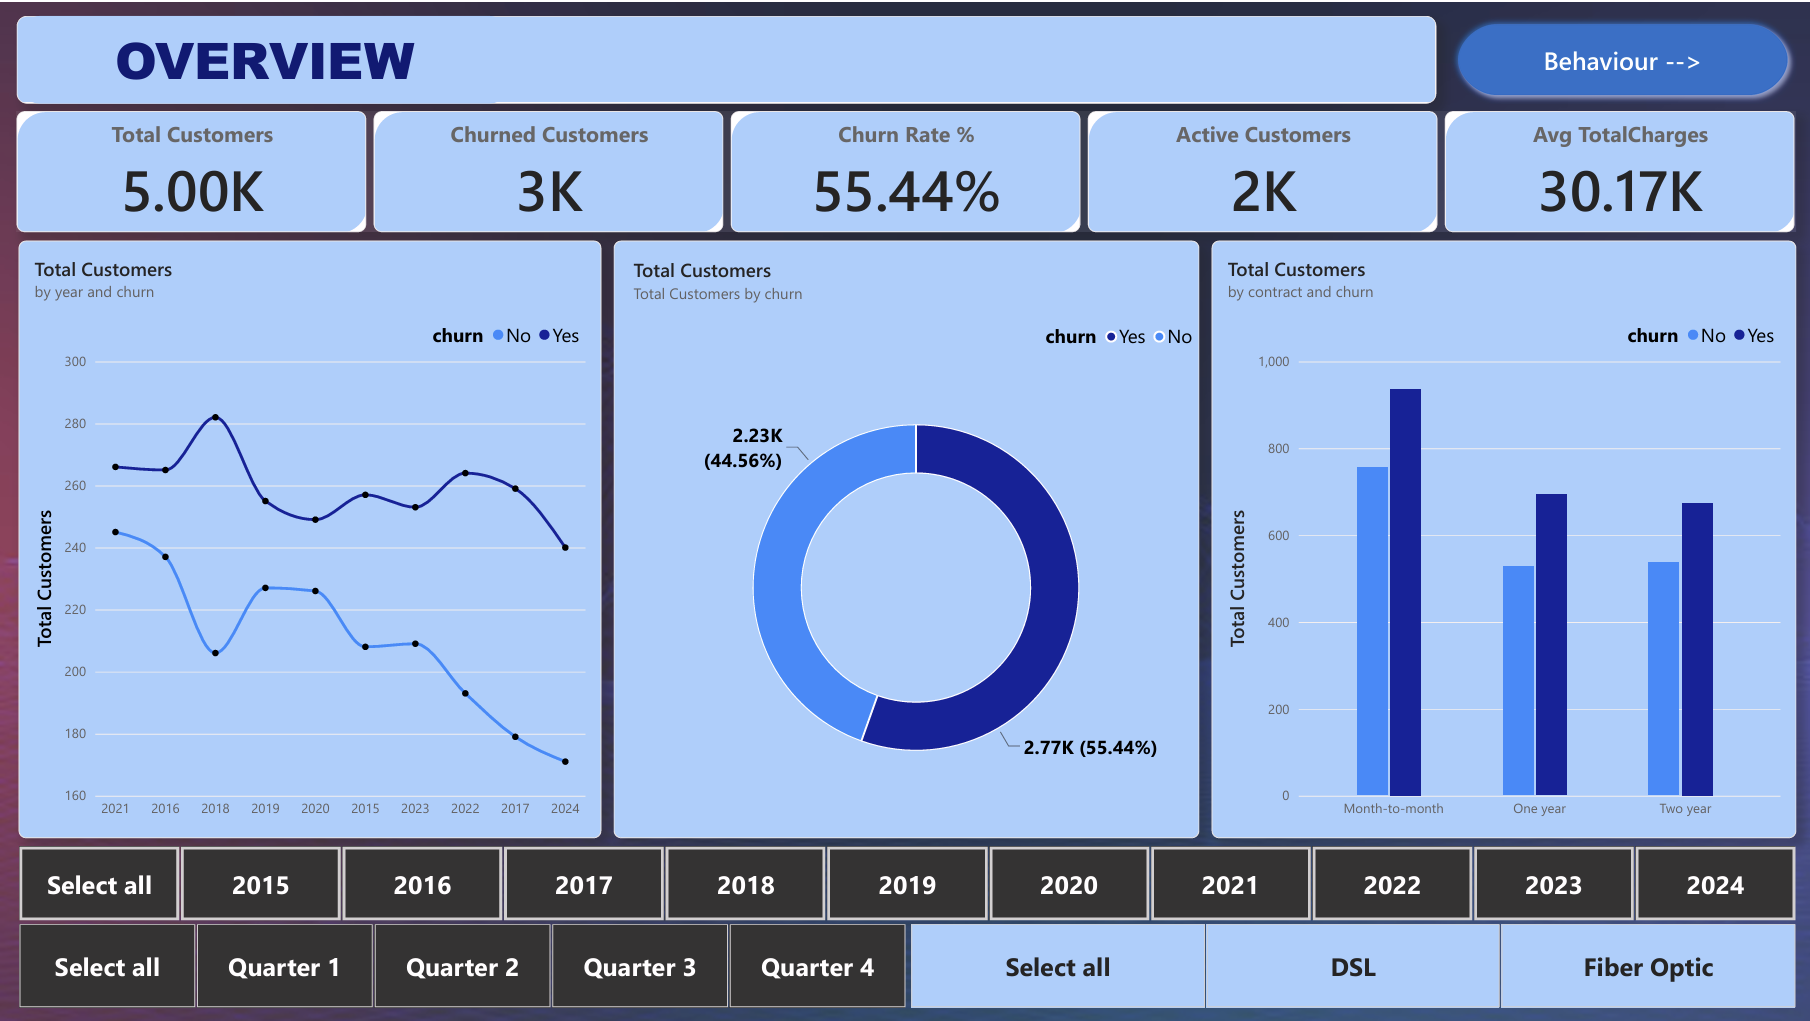

This screenshot's page, from the dashboard's own definition file:
{"tool":"powerbi","page":{"name":"Overview","canvas":[1920,1080],"ordinal":0},"visuals":[{"type":"shape","box":[18.2,14.1,1502.8,92.8],"z":0},{"type":"shape","box":[20.2,14.1,520.4,92.8],"z":1000},{"type":"cardVisual","fields":{"Data":["Ashok_Churn_analysis.Total Customers","Ashok_Churn_analysis.Churned Customers","Ashok_Churn_analysis.Churn Rate %","Ashok_Churn_analysis.Active Customers","Ashok_Churn_analysis.Avg TotalCharges"]},"box":[18,115,1883.9,128],"z":2000},{"type":"lineChart","fields":{"Y":["Ashok_Churn_analysis.Total Customers"],"Series":["Ashok_Churn_analysis.churn"],"Category":["Ashok_Churn_analysis.year"]},"box":[19.9,251.5,617.1,633.4],"z":3000},{"type":"donutChart","title":"Total Customers","fields":{"Category":["Ashok_Churn_analysis.churn"],"Y":["Count(Ashok_Churn_analysis.customerid)"]},"box":[649.7,251.5,620.7,633.4],"z":4000},{"type":"clusteredColumnChart","title":"Total Customers","fields":{"Category":["Ashok_Churn_analysis.contract"],"Y":["CountNonNull(Ashok_Churn_analysis.customerid)"],"Series":["Ashok_Churn_analysis.churn"]},"box":[1283,251.5,618.9,633.4],"z":5000},{"type":"slicer","fields":{"Values":["Ashok_Churn_analysis.year"]},"box":[0,892,1920,82],"z":6000},{"type":"slicer","fields":{"Values":["Ashok_Churn_analysis.quarter"]},"box":[0,974,978,92],"z":7000},{"type":"slicer","fields":{"Values":["Ashok_Churn_analysis.internetservice"]},"box":[944,974,976,92],"z":8000},{"type":"actionButton","box":[1535.1,14.1,367.1,92.8],"z":9000}]}

Visuals, with their boxes in screenshot pixels (x1, y1, x2, y2), scaled from the page's 1920x1080 canvas onto the 1810x1021 screenshot:
shape: l=17, t=13, r=1434, b=101
shape: l=19, t=13, r=510, b=101
cardVisual - Ashok_Churn_analysis.Total Customers x Ashok_Churn_analysis.Churned Customers: l=17, t=109, r=1793, b=230
lineChart - Ashok_Churn_analysis.Total Customers x Ashok_Churn_analysis.churn: l=19, t=238, r=601, b=837
"Total Customers" donutChart: l=612, t=238, r=1198, b=837
"Total Customers" clusteredColumnChart: l=1209, t=238, r=1793, b=837
slicer - Ashok_Churn_analysis.year: l=0, t=843, r=1809, b=921
slicer - Ashok_Churn_analysis.quarter: l=0, t=921, r=922, b=1008
slicer - Ashok_Churn_analysis.internetservice: l=890, t=921, r=1809, b=1008
actionButton: l=1447, t=13, r=1793, b=101
